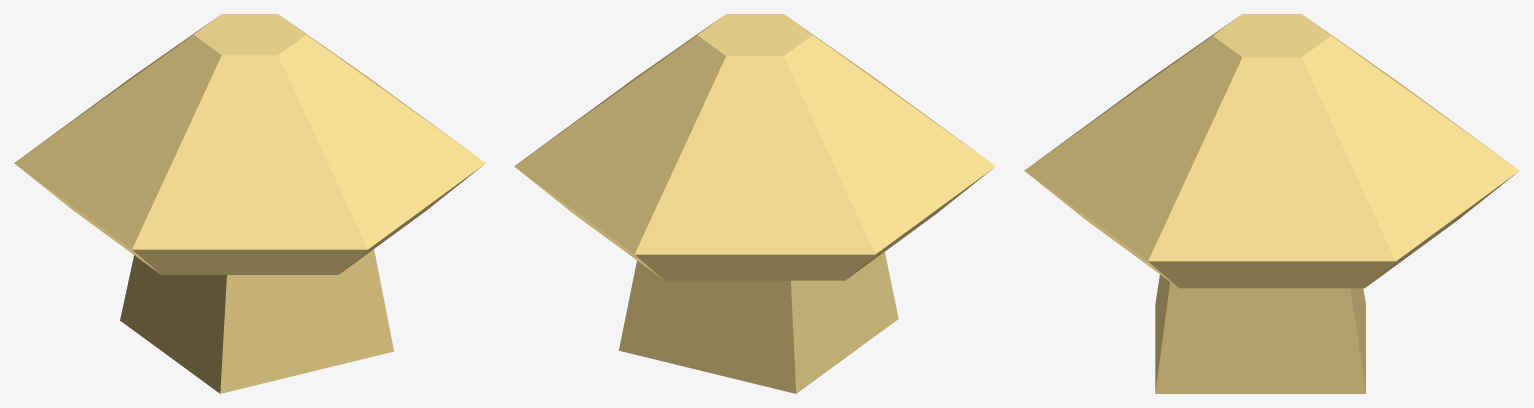
File: kenney_nature-kit__mushroom_tan.fbx
3 renders of one model, left to right at view 1: azimuth 30°, elevation 25°; view 2: azimuth 150°, elevation 25°; view 3: azimuth 270°, elevation 25°, orthographic. The views are drawn at different scales.
Parts seen in each view (by area): view 1: kenney_nature-kit__mushroom_tan__meadow_flower; view 2: kenney_nature-kit__mushroom_tan__meadow_flower; view 3: kenney_nature-kit__mushroom_tan__meadow_flower.
Part boxes in pixels (<box>): kenney_nature-kit__mushroom_tan__meadow_flower: <box>14,14,485,393</box>; kenney_nature-kit__mushroom_tan__meadow_flower: <box>514,14,995,393</box>; kenney_nature-kit__mushroom_tan__meadow_flower: <box>1024,14,1519,393</box>.
Size of the model in its own units: 0.6834 by 0.5496 by 0.7892.
